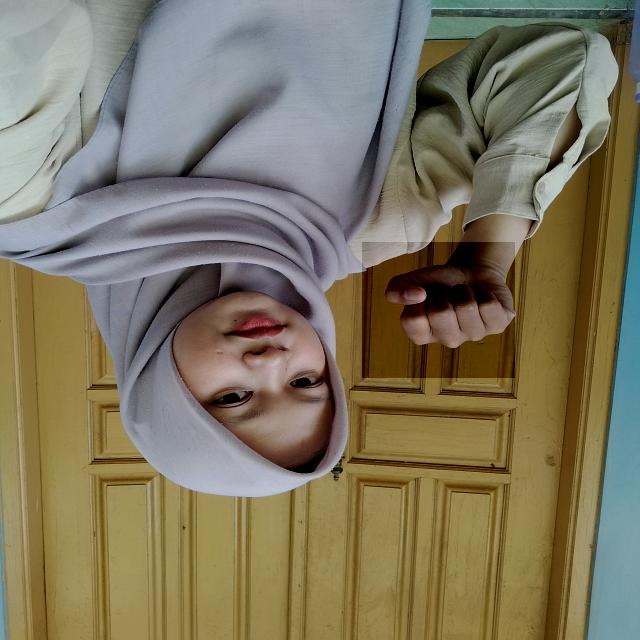baik: (362, 242, 515, 378)
